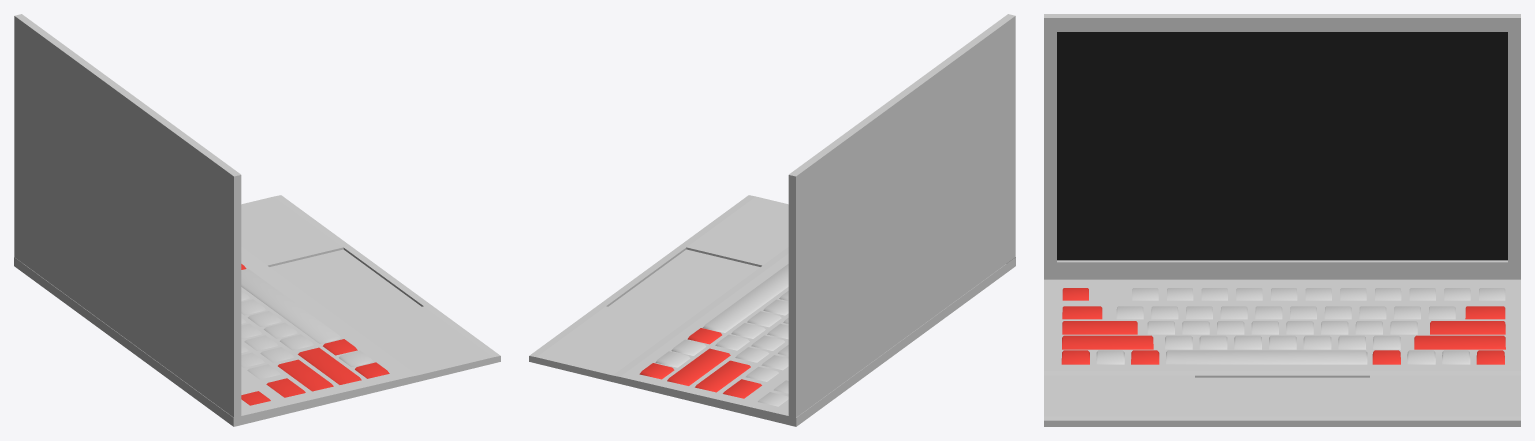
Rendered from Laptop.fbx.
3 views of the same model, side by side, from view 1: azimuth 30°, elevation 25°; view 2: azimuth 150°, elevation 25°; view 3: azimuth 270°, elevation 25° (orthographic). The views are drawn at different scales.
Visible parts, largest first — view 1: base; view 2: base; view 3: Screen, base.
Boxes of the visible parts, bbox=[...] form: base: bbox=[14, 14, 500, 426]; base: bbox=[529, 14, 1015, 426]; Screen: bbox=[1057, 32, 1507, 260]; base: bbox=[1044, 14, 1520, 426].
Bounding box in the file's own units: 463 × 415 × 660.
